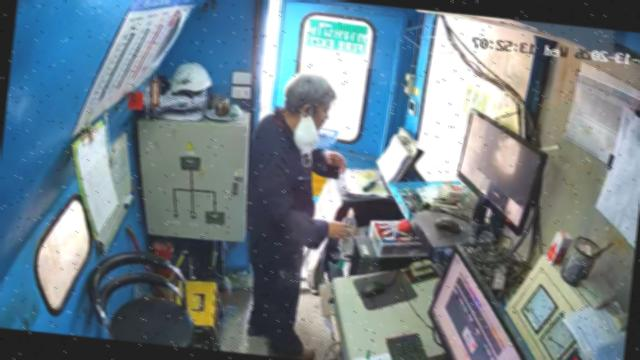Head: (282, 72, 336, 129)
People: (245, 72, 354, 359)
